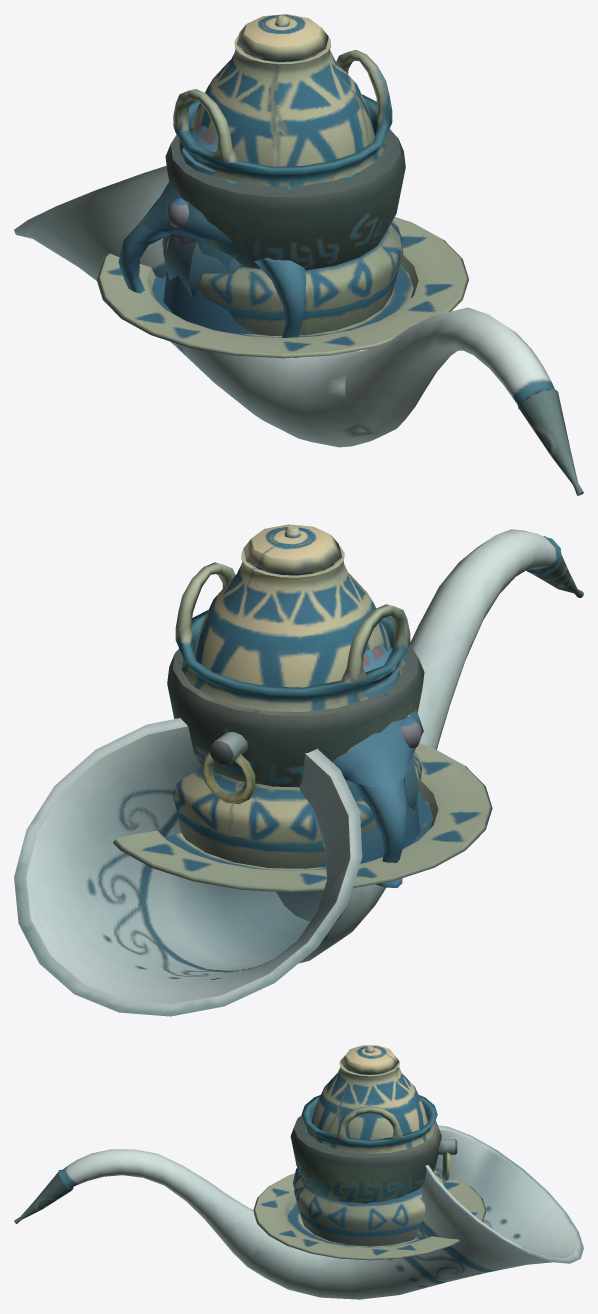
File: Tributs_color_variation_lvl2.gltf
The picture shows the model from 3 angles, top to bottom: view 1: azimuth 30°, elevation 25°; view 2: azimuth 150°, elevation 25°; view 3: azimuth 270°, elevation 25°; orthographic projection. The views are drawn at different scales.
Parts seen in each view (by area): view 1: PR_Tributes_DrinkingHorn, PR_Tributes_Jar02, PR_Tributes_Jar03, PR_Tributes_Plate, PR_Tributes_Jar01, PR_Tributes_Vase04, PR_Tributes_Jar05, PR_Tributes_Vase01; view 2: PR_Tributes_DrinkingHorn, PR_Tributes_Jar02, PR_Tributes_Jar03, PR_Tributes_Plate, PR_Tributes_Jar01, PR_Tributes_Jar05, PR_Tributes_Vase04, PR_Tributes_Vase01; view 3: PR_Tributes_DrinkingHorn, PR_Tributes_Jar03, PR_Tributes_Jar02, PR_Tributes_Plate, PR_Tributes_Jar01, PR_Tributes_Jar05.
Part boxes in pixels (box(x1,y1,x2,y2)): PR_Tributes_DrinkingHorn: box(14, 166, 583, 495); PR_Tributes_Jar02: box(191, 14, 374, 166); PR_Tributes_Jar03: box(165, 129, 405, 270); PR_Tributes_Plate: box(96, 217, 468, 358); PR_Tributes_Jar01: box(162, 221, 403, 335); PR_Tributes_Vase04: box(118, 125, 305, 357); PR_Tributes_Jar05: box(173, 50, 392, 186); PR_Tributes_Vase01: box(163, 198, 255, 334); PR_Tributes_DrinkingHorn: box(14, 529, 583, 1016); PR_Tributes_Jar02: box(194, 524, 390, 687); PR_Tributes_Jar03: box(167, 645, 424, 803); PR_Tributes_Plate: box(113, 743, 492, 892); PR_Tributes_Jar01: box(173, 751, 421, 868); PR_Tributes_Jar05: box(175, 562, 410, 711); PR_Tributes_Vase04: box(332, 643, 423, 887); PR_Tributes_Vase01: box(320, 717, 421, 867); PR_Tributes_DrinkingHorn: box(14, 1125, 583, 1299); PR_Tributes_Jar03: box(290, 1115, 457, 1203); PR_Tributes_Jar02: box(311, 1045, 427, 1140); PR_Tributes_Plate: box(253, 1173, 486, 1260); PR_Tributes_Jar01: box(294, 1170, 443, 1246); PR_Tributes_Jar05: box(301, 1095, 437, 1153).
Bounding box in the file's own units: 1.58 × 1.86 × 3.85.
1 material, 1 textured.
